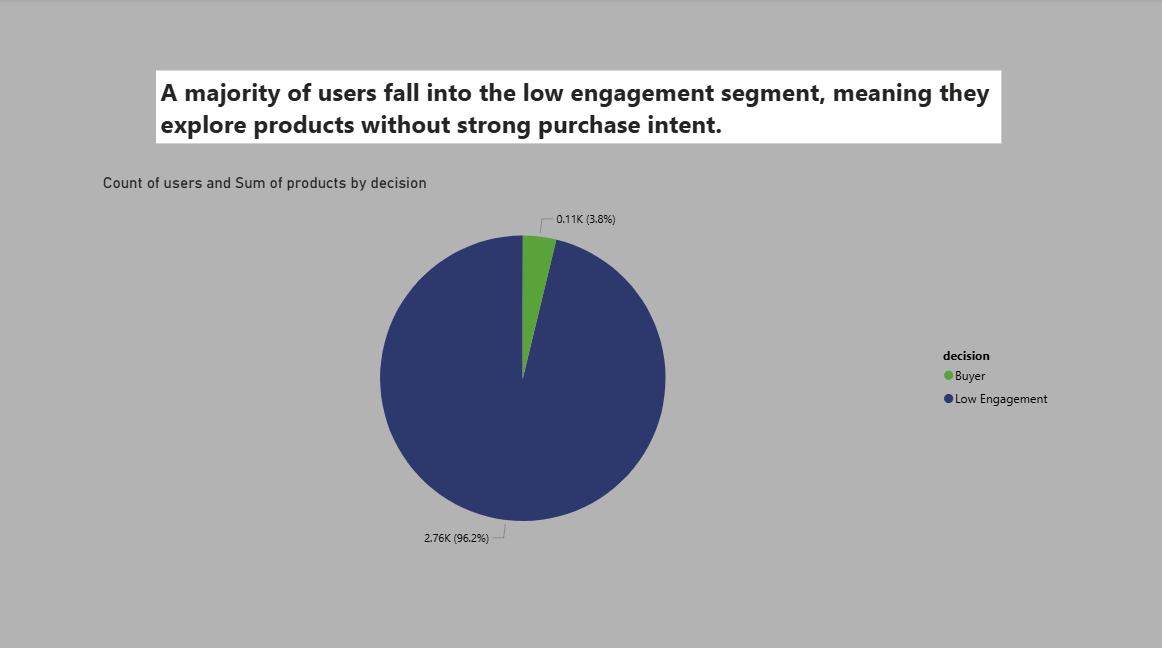

This screenshot's page, from the dashboard's own definition file:
{"tool":"powerbi","page":{"name":"Pie","canvas":[1280,720],"ordinal":2},"visuals":[{"type":"pieChart","fields":{"Y":["CountNonNull(user_segments.user_id)"],"Series":["user_segments.segment"]},"box":[241.5,98.8,738.3,440.5],"z":0},{"type":"textbox","box":[149.6,539.3,934.5,181.1],"z":1}]}

Visuals, with their boxes in screenshot pixels (x1, y1, x2, y2), scaled from the page's 1280x720 canvas onto the 1162x648 screenshot:
pieChart - CountNonNull(user_segments.user_id) x user_segments.segment: detection(219, 89, 889, 485)
textbox: detection(136, 485, 984, 647)
